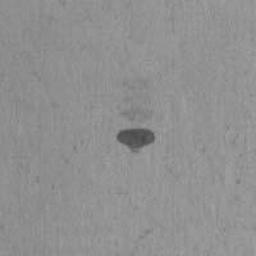Oil spot: (113, 60, 157, 155)
